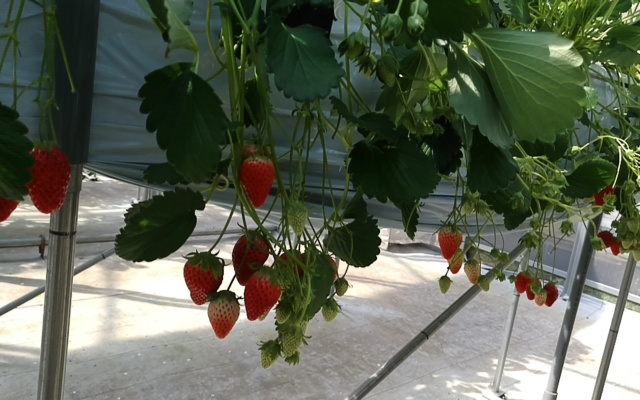GreenStrawberry: (206, 289, 241, 341), (375, 52, 397, 87), (287, 201, 308, 237), (290, 283, 312, 313), (282, 328, 303, 359), (259, 340, 280, 371), (276, 265, 295, 291), (276, 298, 292, 327), (321, 297, 339, 322), (464, 258, 479, 285), (448, 246, 462, 273), (532, 284, 546, 307), (335, 278, 348, 297), (439, 275, 451, 295), (478, 274, 490, 292)
MatureStrawberry: (26, 144, 71, 215), (181, 251, 223, 307), (230, 230, 271, 287), (242, 266, 282, 322), (237, 154, 276, 210), (436, 223, 462, 261), (593, 183, 616, 211), (543, 282, 559, 308), (515, 268, 531, 294), (526, 276, 541, 302), (610, 236, 627, 258), (597, 230, 612, 253)
